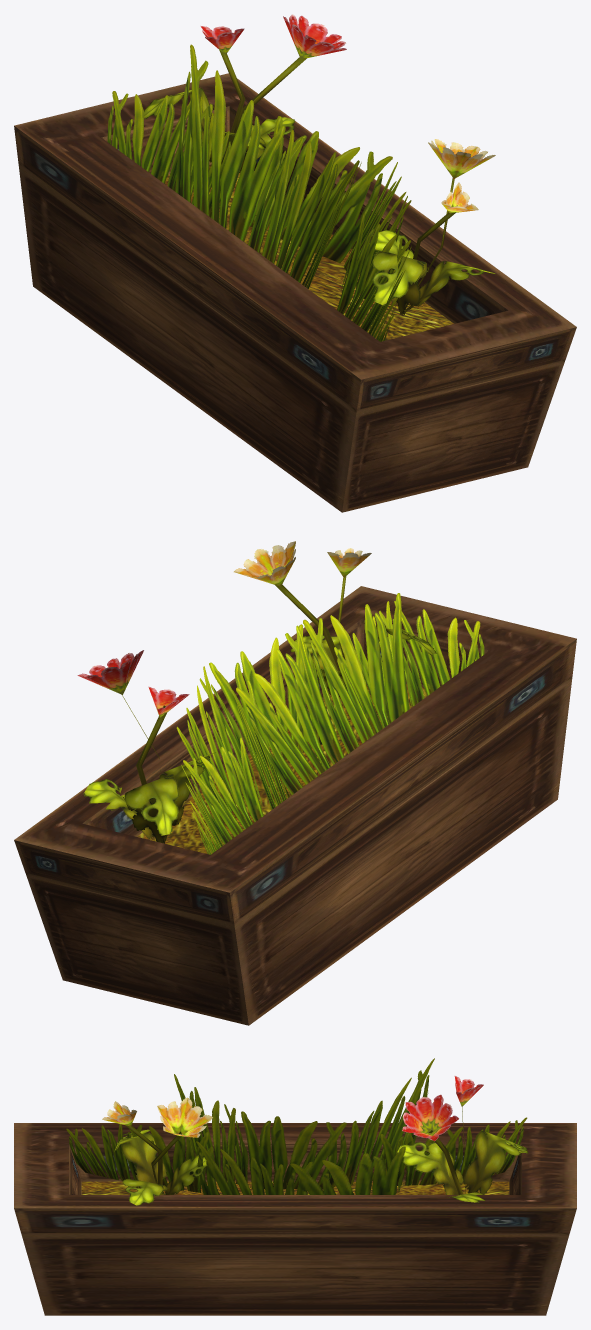
Rendered from stormwindwindowplanterb.obj.
The picture shows the model from 3 angles, top to bottom: view 1: azimuth 30°, elevation 25°; view 2: azimuth 150°, elevation 25°; view 3: azimuth 270°, elevation 25°; orthographic projection. The views are drawn at different scales.
Visible parts, largest first — view 1: Geoset3, Geoset2, Geoset0, Geoset1, Geoset4; view 2: Geoset3, Geoset2, Geoset0, Geoset1, Geoset4; view 3: Geoset3, Geoset2, Geoset0, Geoset1, Geoset4.
Part boxes in pixels (x1,y1,x2,y2): Geoset3: (14, 73, 576, 512); Geoset2: (107, 44, 411, 341); Geoset0: (144, 50, 495, 314); Geoset1: (200, 14, 495, 213); Geoset4: (165, 164, 453, 341); Geoset3: (14, 586, 576, 1025); Geoset2: (176, 593, 484, 854); Geoset0: (83, 576, 436, 843); Geoset1: (77, 541, 371, 717); Geoset4: (137, 684, 426, 854); Geoset3: (14, 1123, 576, 1315); Geoset2: (66, 1058, 527, 1194); Geoset0: (113, 1106, 528, 1205); Geoset1: (102, 1076, 483, 1141); Geoset4: (81, 1181, 509, 1194).
Bounding box in the file's own units: 2.26 × 2.46 × 5.62.
5 materials, 5 textured.
